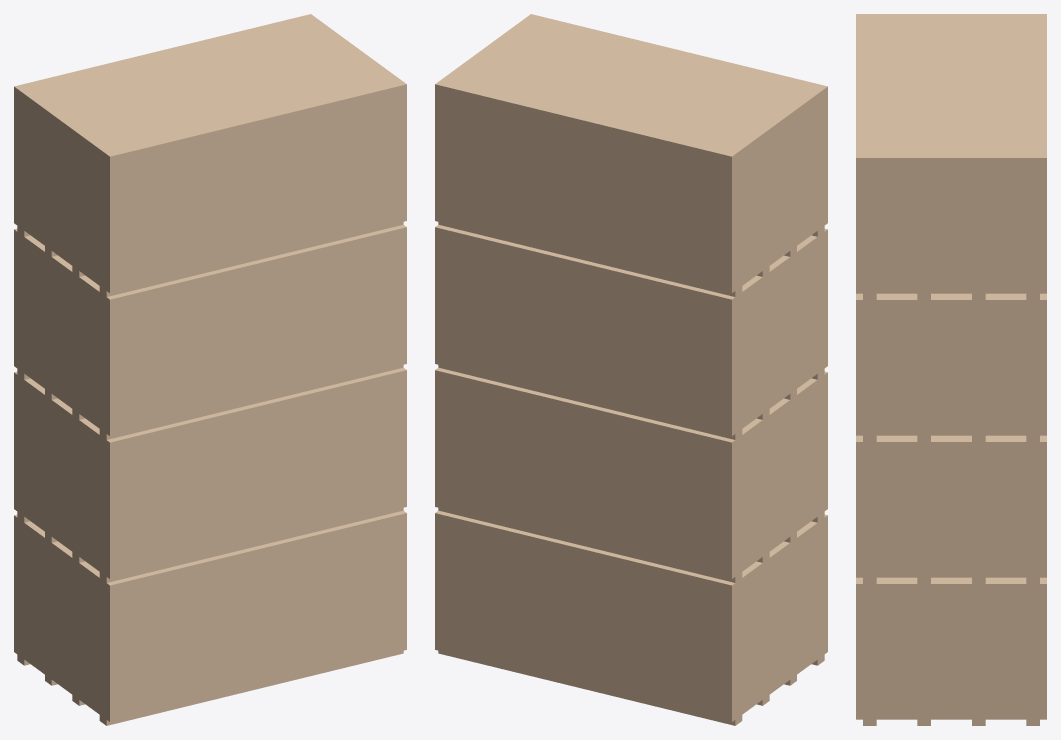
File: elevator_box.dae
3 views of the same model, side by side, from view 1: azimuth 30°, elevation 25°; view 2: azimuth 150°, elevation 25°; view 3: azimuth 270°, elevation 25° (orthographic).
Parts seen in each view (by area): view 1: ShapeIndexedFaceSet_003, ShapeIndexedFaceSet, ShapeIndexedFaceSet_001, ShapeIndexedFaceSet_002; view 2: ShapeIndexedFaceSet_003, ShapeIndexedFaceSet, ShapeIndexedFaceSet_001, ShapeIndexedFaceSet_002; view 3: ShapeIndexedFaceSet_003, ShapeIndexedFaceSet, ShapeIndexedFaceSet_001, ShapeIndexedFaceSet_002.
Part boxes in pixels (x1,y1,x2,y2): ShapeIndexedFaceSet_003: [14, 14, 406, 296]; ShapeIndexedFaceSet: [14, 510, 406, 725]; ShapeIndexedFaceSet_001: [14, 367, 406, 582]; ShapeIndexedFaceSet_002: [14, 224, 406, 439]; ShapeIndexedFaceSet_003: [435, 14, 827, 296]; ShapeIndexedFaceSet: [435, 510, 827, 725]; ShapeIndexedFaceSet_001: [435, 367, 827, 582]; ShapeIndexedFaceSet_002: [435, 224, 827, 439]; ShapeIndexedFaceSet_003: [856, 14, 1046, 299]; ShapeIndexedFaceSet: [856, 577, 1046, 725]; ShapeIndexedFaceSet_001: [856, 435, 1046, 583]; ShapeIndexedFaceSet_002: [856, 293, 1046, 441].
Bounding box in the file's own units: 2.5 × 1.4 × 4.6.
